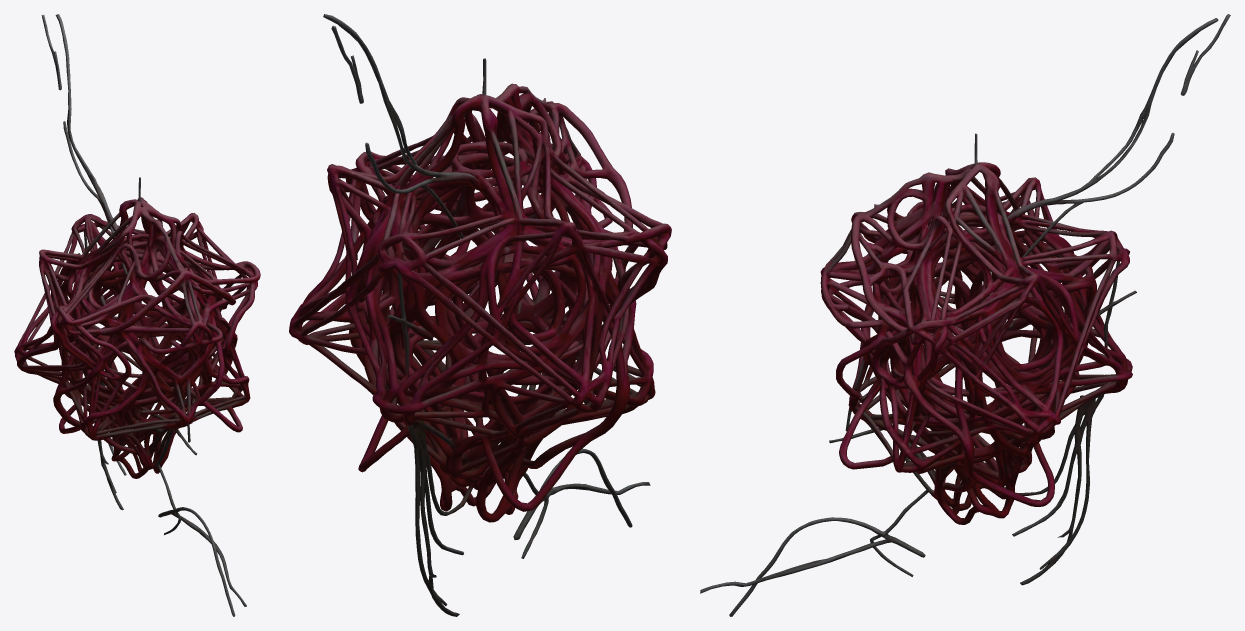
File: object_red_thread.glb
The picture shows the model from 3 angles, left to right: view 1: azimuth 30°, elevation 25°; view 2: azimuth 150°, elevation 25°; view 3: azimuth 270°, elevation 25°; orthographic projection. The views are drawn at different scales.
Visible parts, largest first — view 1: tripo_node_6e2ada0c-7802-4b17-81b9-5399d35731fe; view 2: tripo_node_6e2ada0c-7802-4b17-81b9-5399d35731fe; view 3: tripo_node_6e2ada0c-7802-4b17-81b9-5399d35731fe.
Part boxes in pixels (left/top/right/bottom): tripo_node_6e2ada0c-7802-4b17-81b9-5399d35731fe: left=14, top=14, right=260, bottom=616; tripo_node_6e2ada0c-7802-4b17-81b9-5399d35731fe: left=289, top=14, right=671, bottom=616; tripo_node_6e2ada0c-7802-4b17-81b9-5399d35731fe: left=700, top=14, right=1230, bottom=616.
Size of the model in its own units: 0.4653 by 1 by 0.7953.
1 material, 1 textured.
